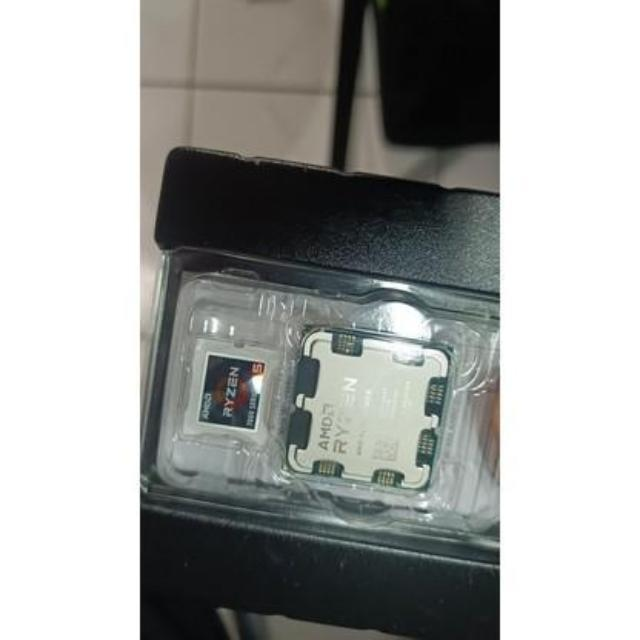CPU: (288, 328, 446, 498)
